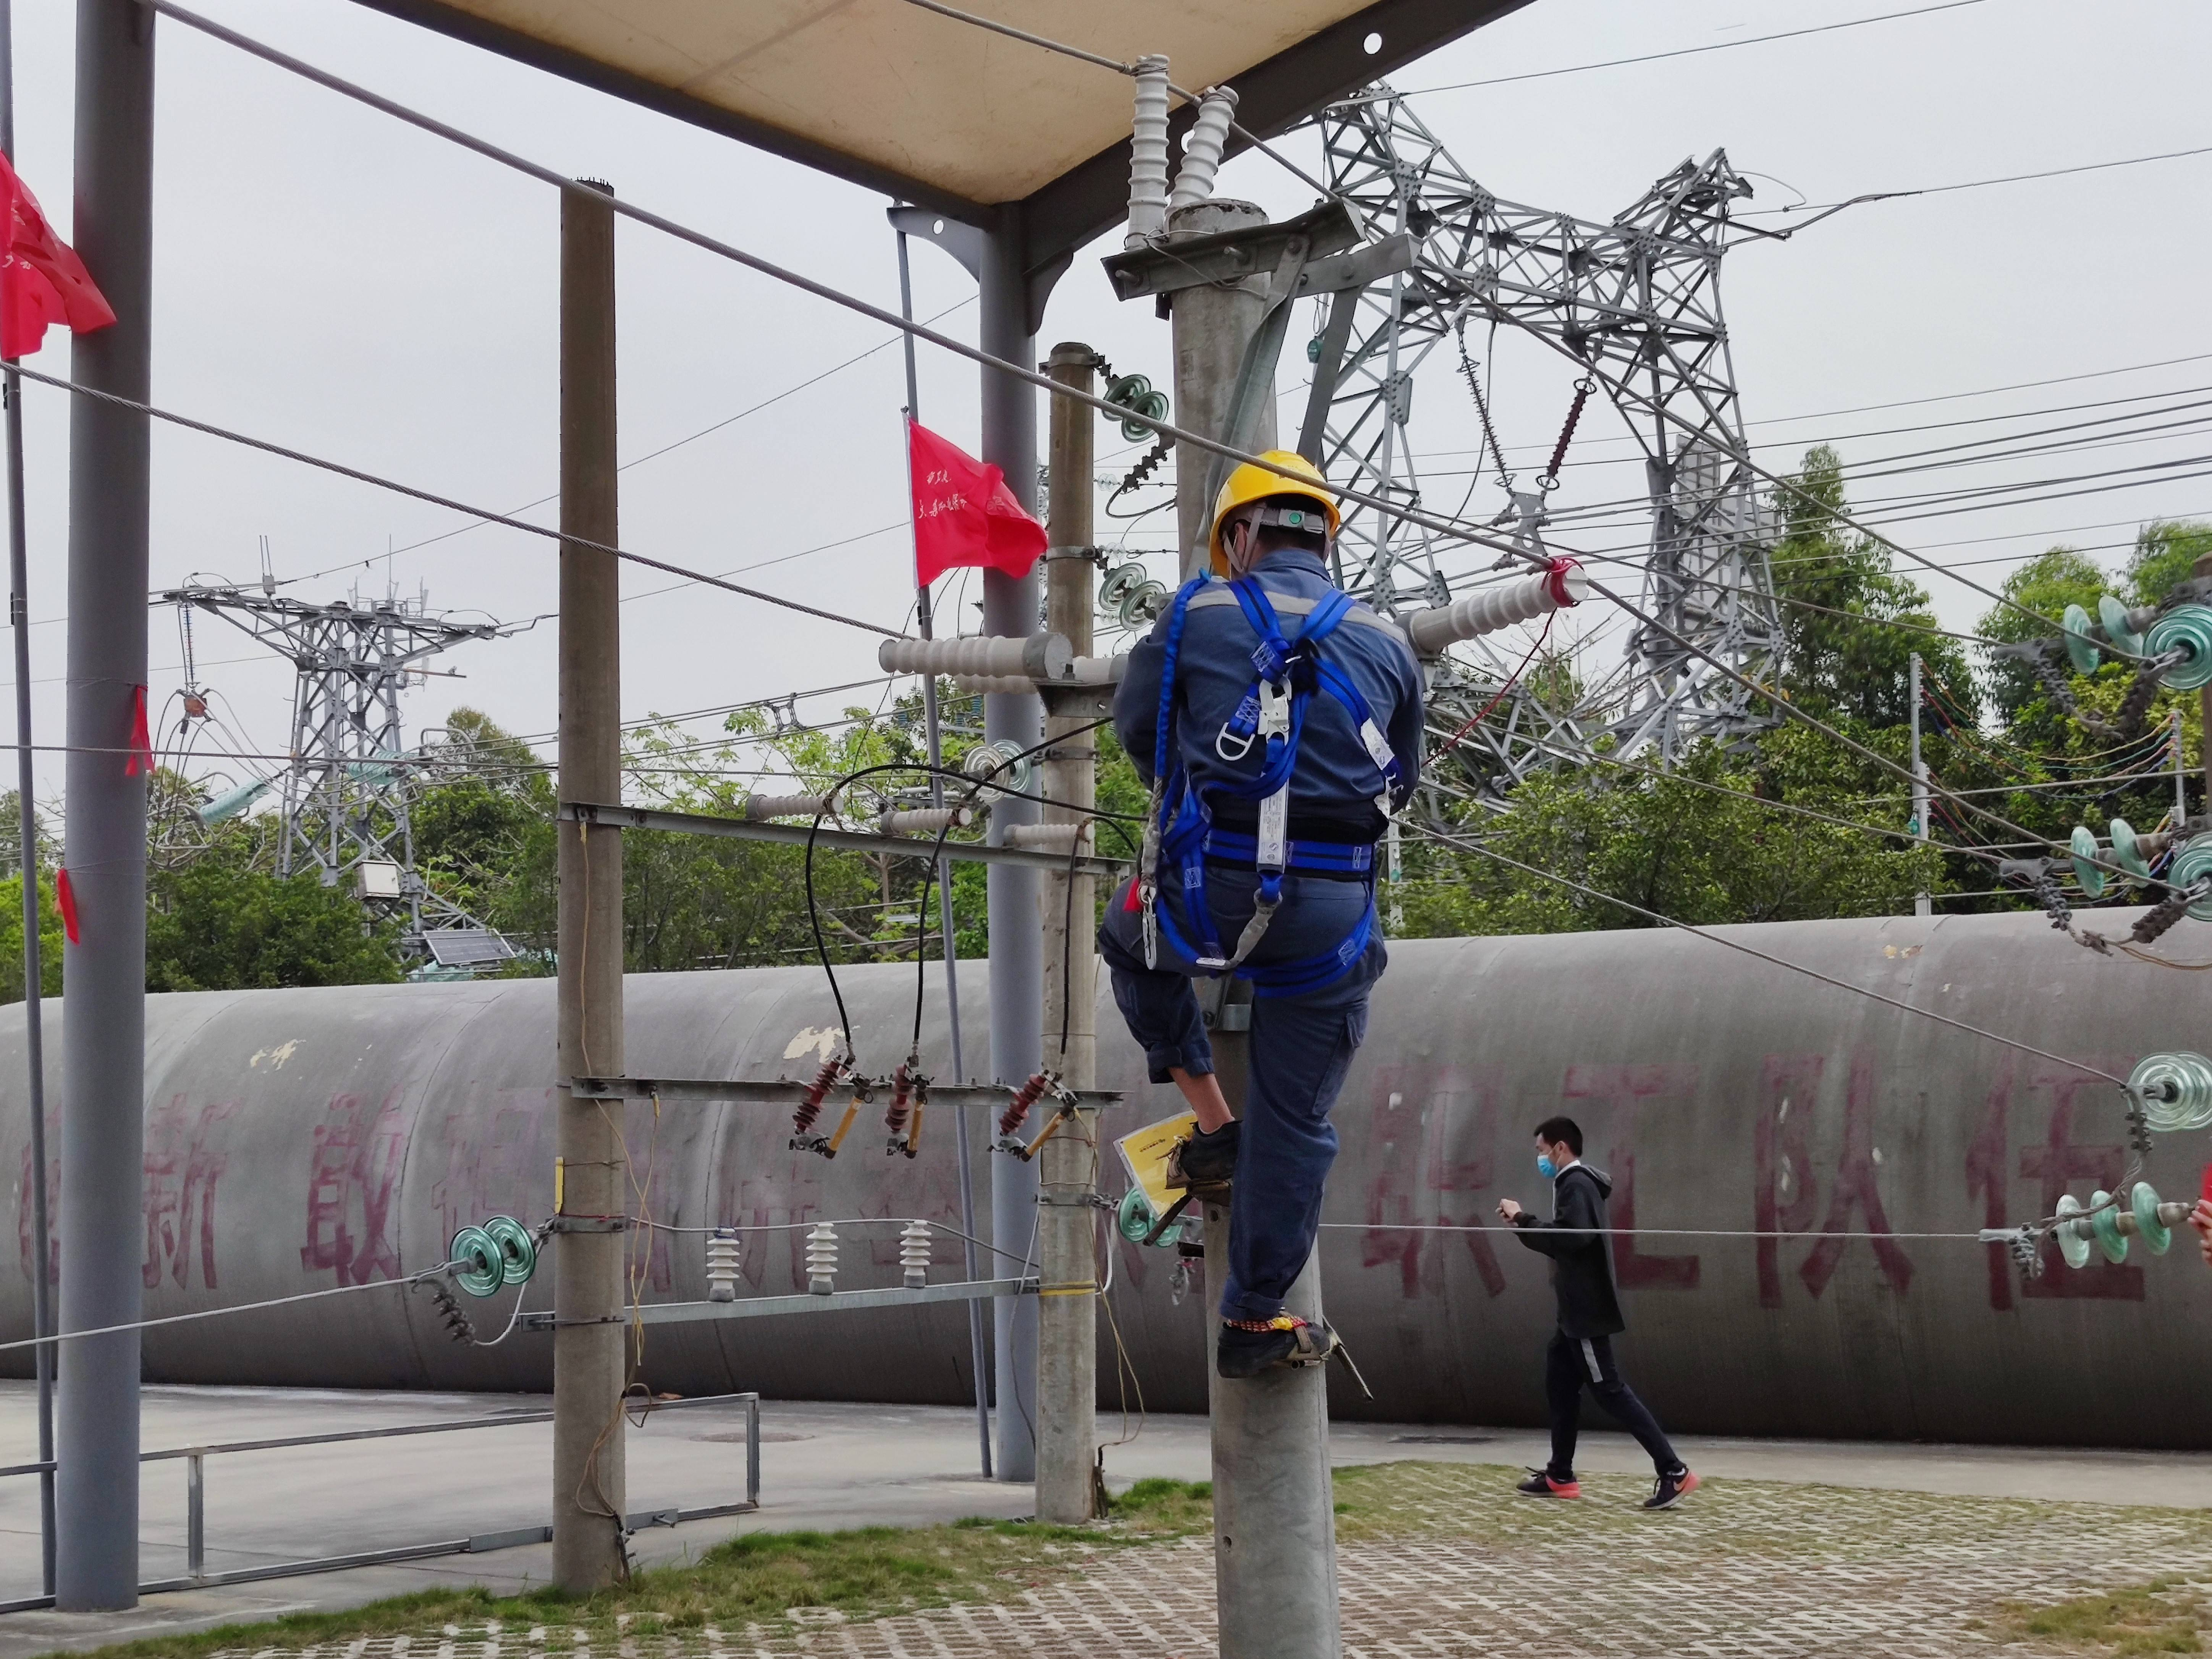downcloth: (1541, 1328, 1674, 1474)
downsuit: (1096, 857, 1383, 1319)
upcloth: (1531, 1168, 1632, 1323)
upsuit: (1116, 563, 1432, 856)
